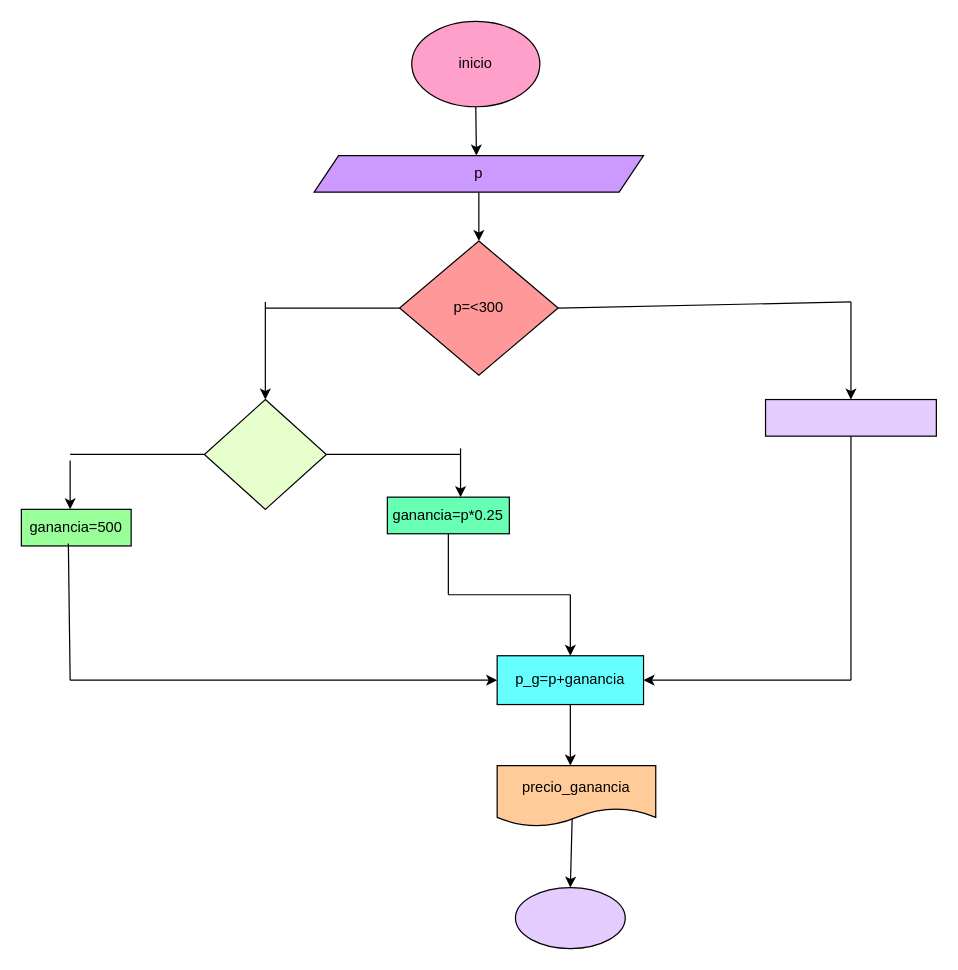
Some shapes in this 958 by 970 pixel diagram are drawn without their labels. Each missing label, with the centre of its shape:
fin: pixel 569 917
ganancia=p*0.15: pixel 850 417
p=<600: pixel 264 453
